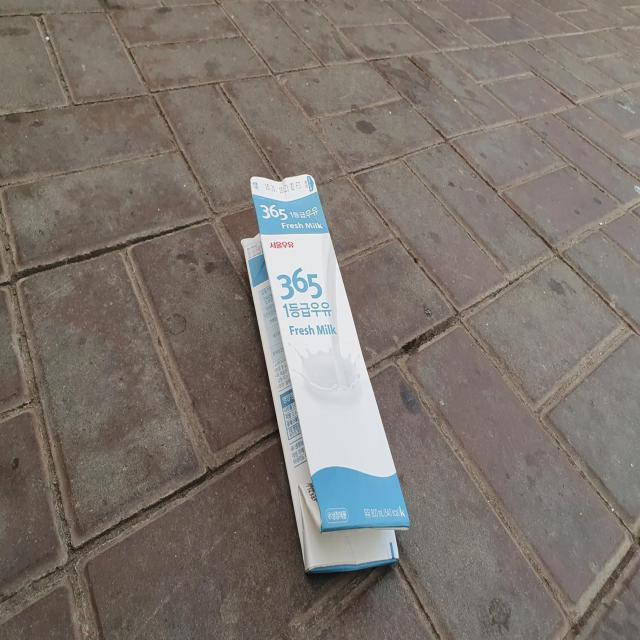paperpack: (242, 173, 410, 573)
